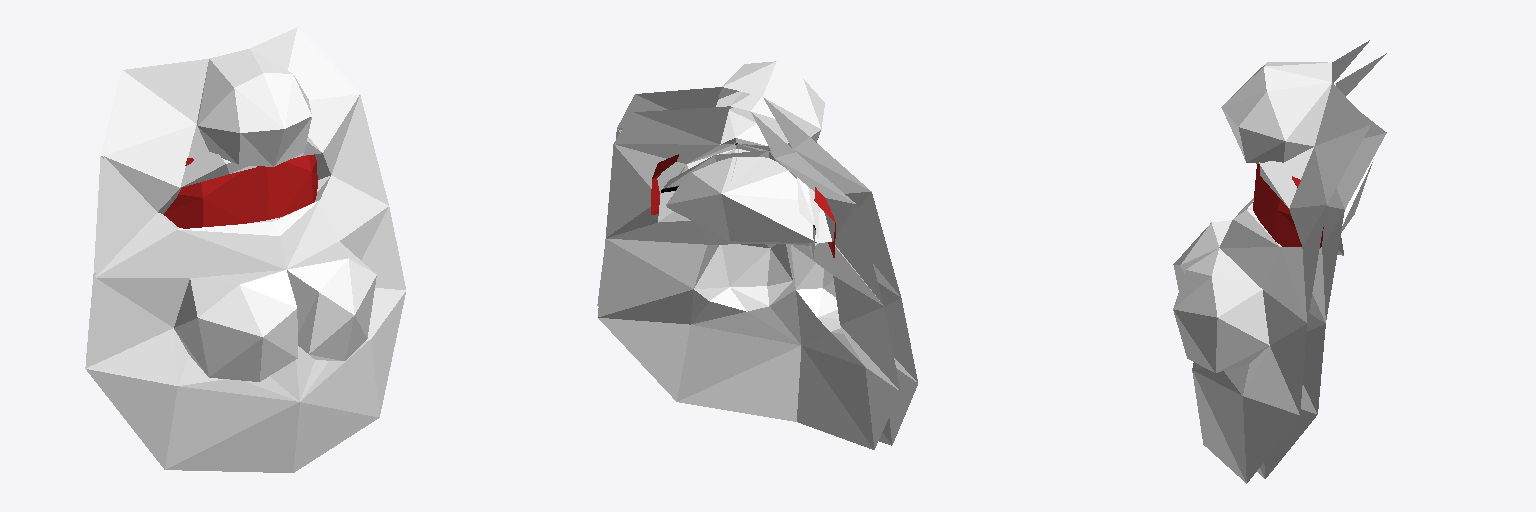
The picture shows the model from 3 angles: view 1: azimuth 30°, elevation 25°; view 2: azimuth 150°, elevation 25°; view 3: azimuth 270°, elevation 25°; orthographic projection.
Visible parts, largest first — view 1: Mesh_0281_Mesh_0281Mesh, Mesh_0279_Mesh_0279Mesh, Mesh_0280_Mesh_0280Mesh; view 2: Mesh_0280_Mesh_0280Mesh, Mesh_0281_Mesh_0281Mesh, Mesh_0282_Mesh_0282Mesh, Mesh_0279_Mesh_0279Mesh; view 3: Mesh_0281_Mesh_0281Mesh, Mesh_0280_Mesh_0280Mesh, Mesh_0279_Mesh_0279Mesh.
Boxes of the visible parts, x1=… form: Mesh_0281_Mesh_0281Mesh: x1=85, y1=27, x2=405, y2=472; Mesh_0279_Mesh_0279Mesh: x1=164, y1=154, x2=317, y2=228; Mesh_0280_Mesh_0280Mesh: x1=86, y1=74, x2=121, y2=357; Mesh_0280_Mesh_0280Mesh: x1=598, y1=92, x2=899, y2=449; Mesh_0281_Mesh_0281Mesh: x1=597, y1=61, x2=917, y2=445; Mesh_0282_Mesh_0282Mesh: x1=658, y1=150, x2=815, y2=259; Mesh_0279_Mesh_0279Mesh: x1=651, y1=143, x2=835, y2=257; Mesh_0281_Mesh_0281Mesh: x1=1173, y1=40, x2=1370, y2=483; Mesh_0280_Mesh_0280Mesh: x1=1257, y1=53, x2=1386, y2=478; Mesh_0279_Mesh_0279Mesh: x1=1253, y1=164, x2=1323, y2=247.
Size of the model in its own units: 0.3706 by 0.4168 by 0.2139.
Materials: 4 (2 with a texture image).